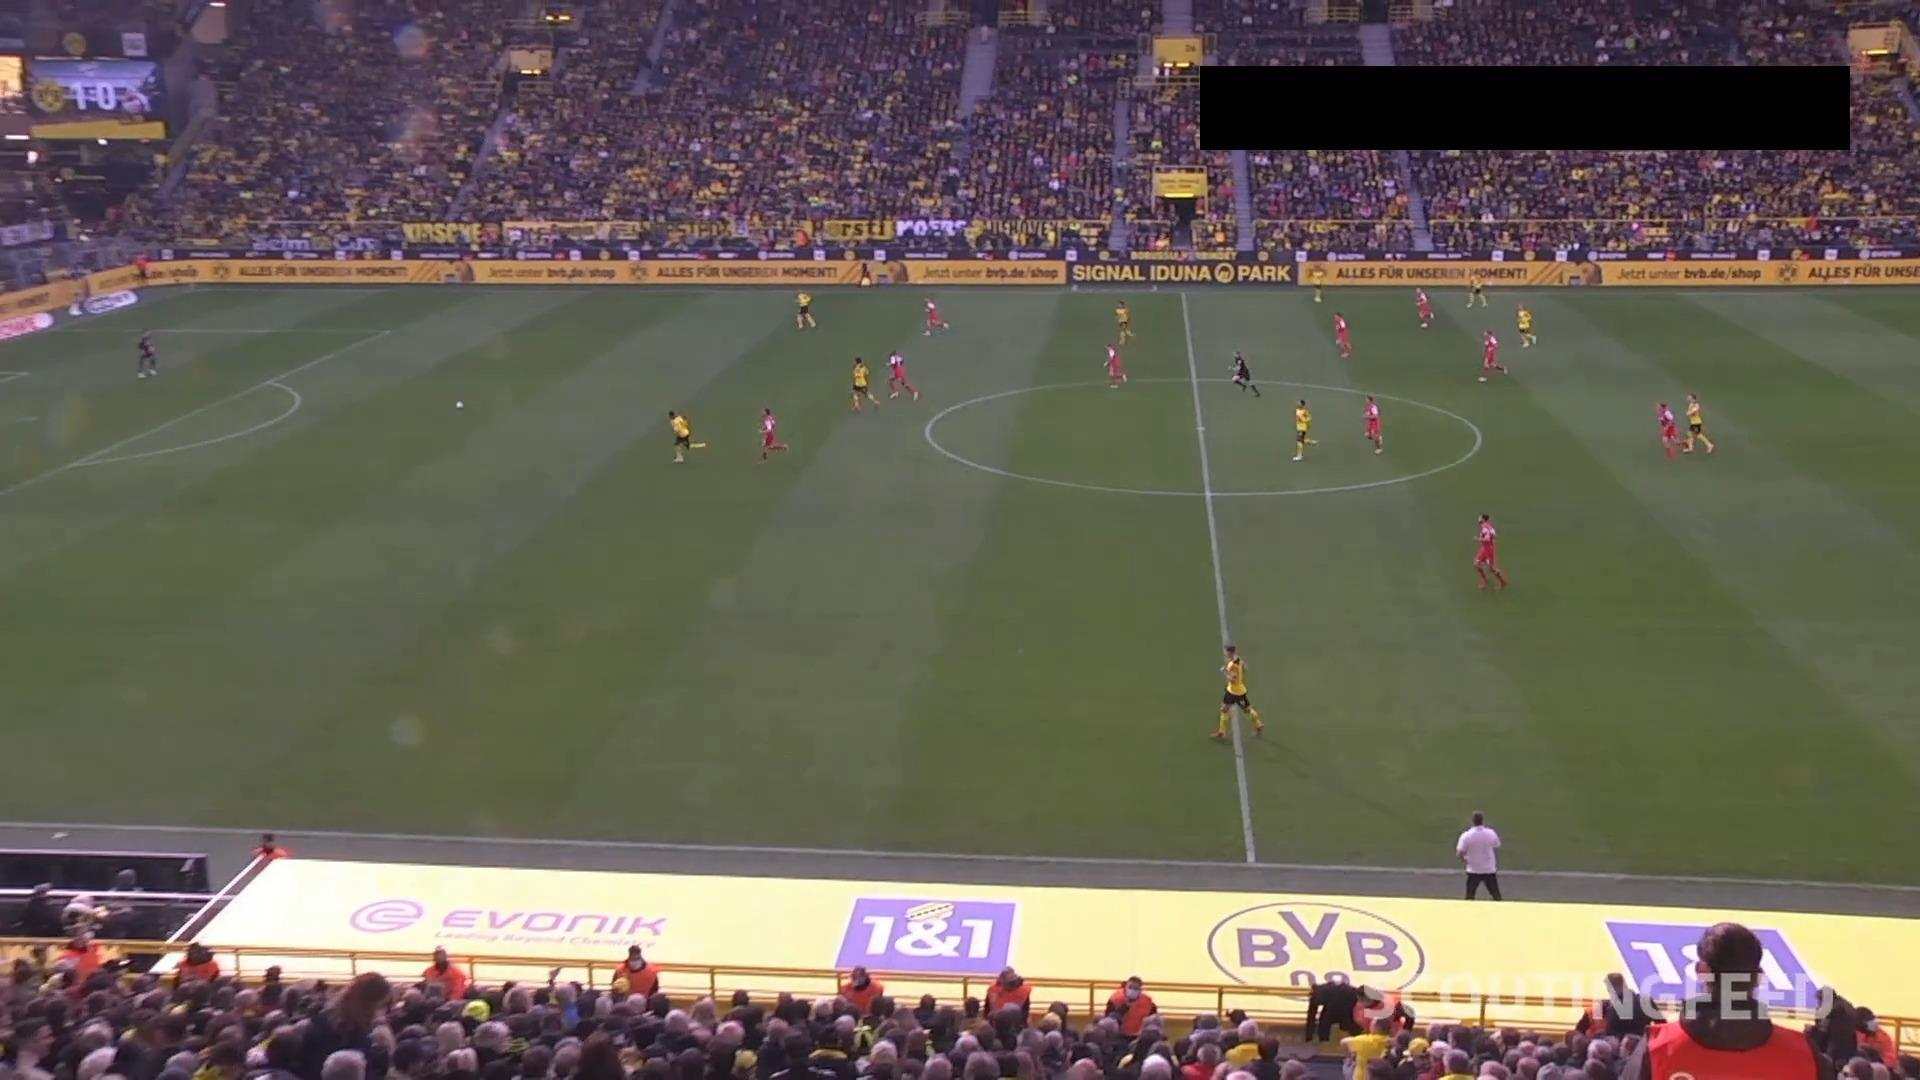ball: (454, 400, 465, 410)
